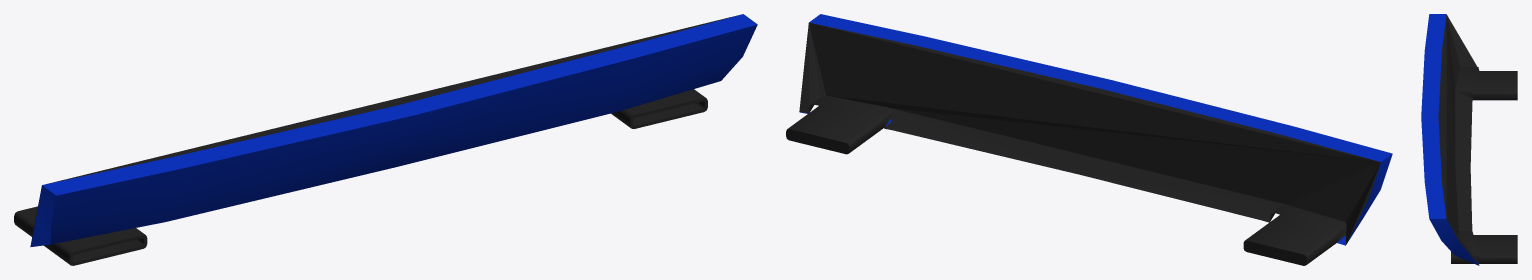
Rendered from Classic_1_Bumper_R_2.fbx.
The picture shows the model from 3 angles, left to right: view 1: azimuth 30°, elevation 25°; view 2: azimuth 150°, elevation 25°; view 3: azimuth 270°, elevation 25°; orthographic projection. The views are drawn at different scales.
Visible parts, largest first — view 1: Classic_1_Bumper_R_2; view 2: Classic_1_Bumper_R_2; view 3: Classic_1_Bumper_R_2.
Part boxes in pixels (x1,y1,x2,y2): Classic_1_Bumper_R_2: (14,14,757,265); Classic_1_Bumper_R_2: (786,14,1392,265); Classic_1_Bumper_R_2: (1421,14,1517,265).
Bounding box in the file's own units: 161 × 20.3 × 32.14.
